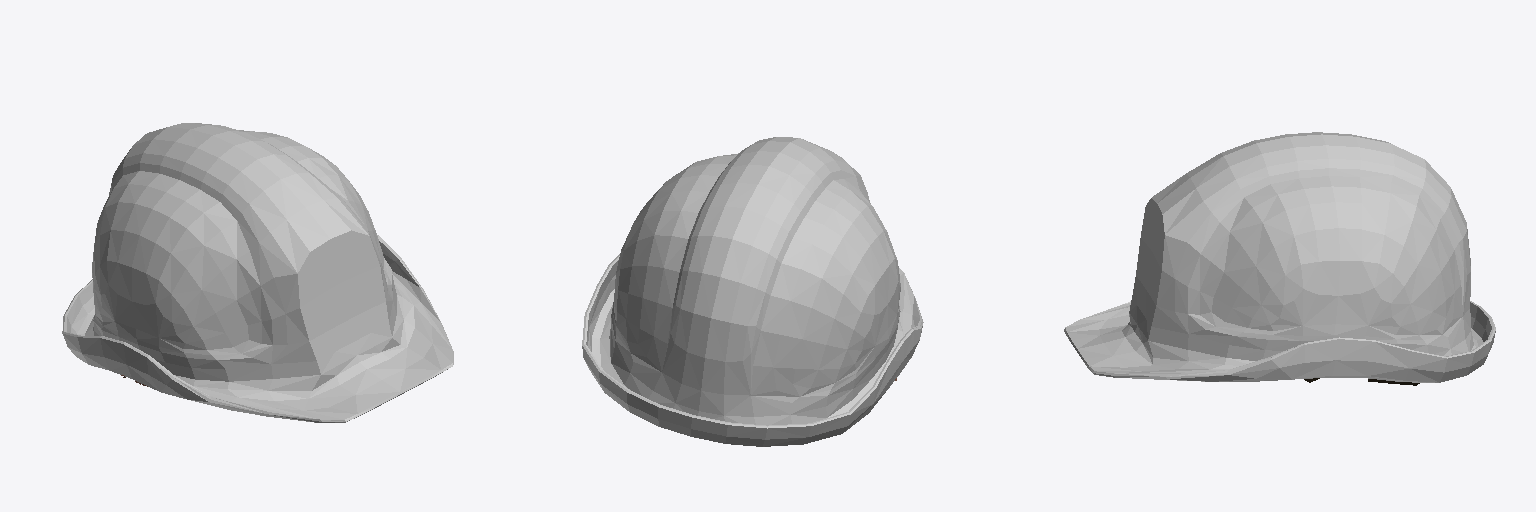
Rendered from Helm.obj.
The picture shows the model from 3 angles: view 1: azimuth 30°, elevation 25°; view 2: azimuth 150°, elevation 25°; view 3: azimuth 270°, elevation 25°; orthographic projection.
Parts seen in each view (by area): view 1: skpTwSfZH_; view 2: skpTwSfZH_; view 3: skpTwSfZH_.
Part boxes in pixels (bbox=[...]): skpTwSfZH_: bbox=[62, 123, 453, 422]; skpTwSfZH_: bbox=[582, 137, 923, 446]; skpTwSfZH_: bbox=[1064, 132, 1495, 385].
Bounding box in the file's own units: 0.2507 × 0.1863 × 0.3285.